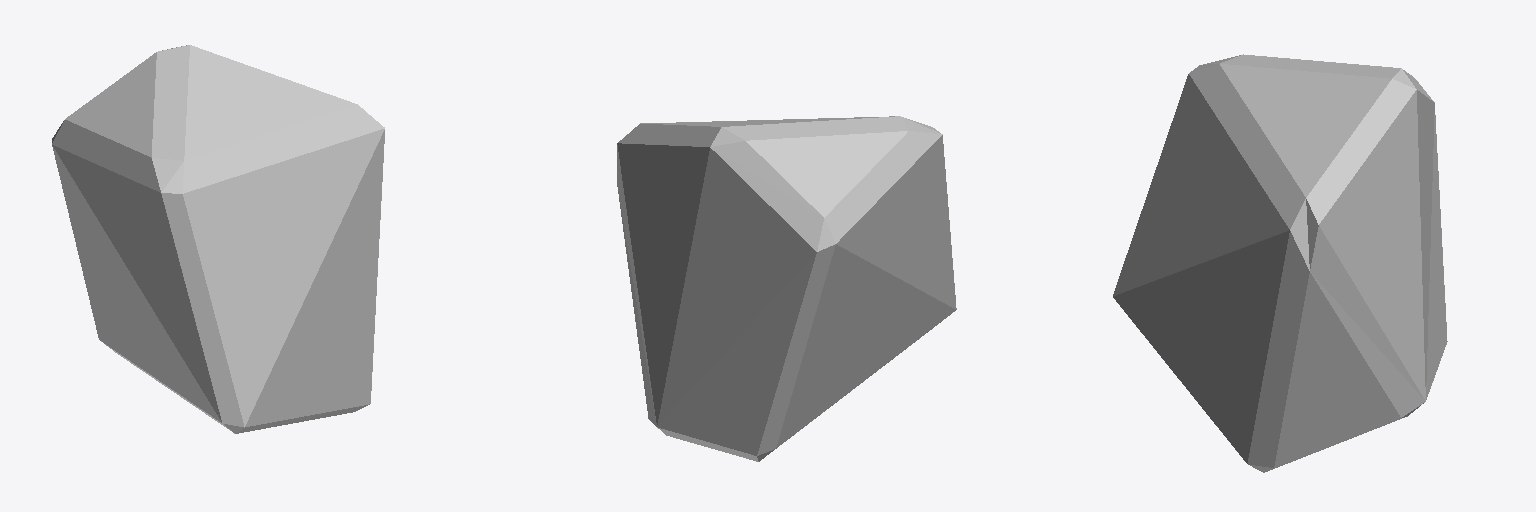
The model's file is rock_2.obj.
The picture shows the model from 3 angles: view 1: azimuth 30°, elevation 25°; view 2: azimuth 150°, elevation 25°; view 3: azimuth 270°, elevation 25°; orthographic projection.
Parts seen in each view (by area): view 1: Cube; view 2: Cube; view 3: Cube.
Boxes of the visible parts, <box> form: Cube: <box>52,45,384,433</box>; Cube: <box>617,116,956,461</box>; Cube: <box>1113,54,1447,472</box>.
Bounding box in the file's own units: 6.05 × 7.33 × 6.45.